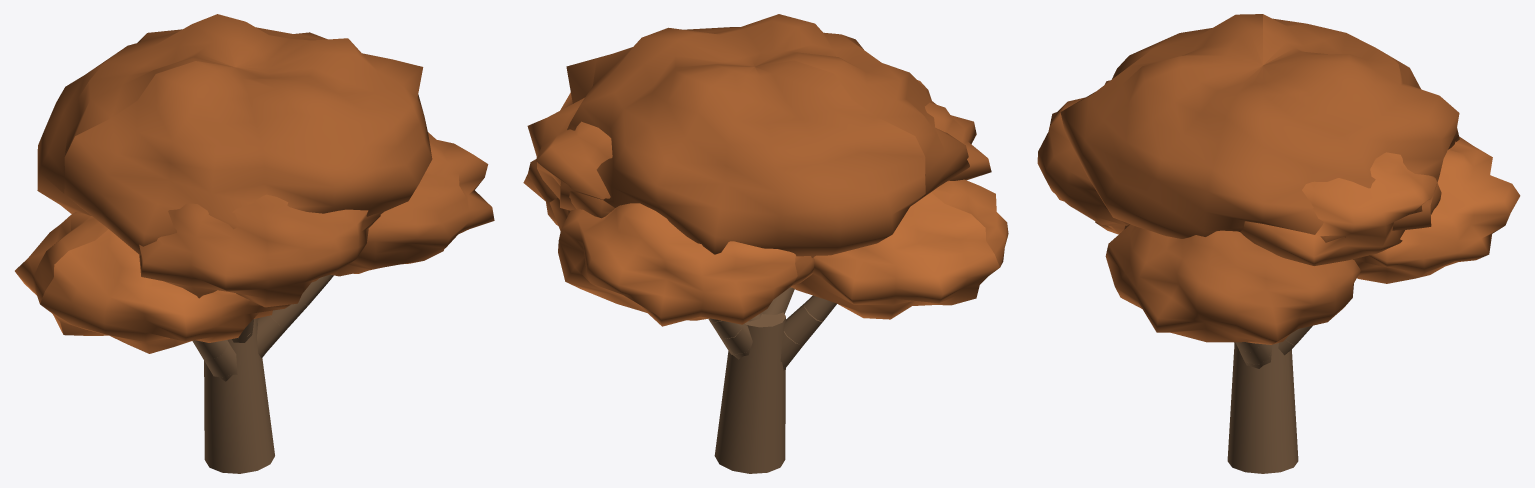
File: naspolya-osz.glb
The picture shows the model from 3 angles, left to right: view 1: azimuth 30°, elevation 25°; view 2: azimuth 150°, elevation 25°; view 3: azimuth 270°, elevation 25°; orthographic projection.
Parts seen in each view (by area): view 1: korona-tomeg, korona-1, korona-4, korona-2, torzs, ag-2-2, ag-1-2, ag-2-3; view 2: korona-tomeg, korona-3, korona-1, torzs, korona-5, korona-4, ag-1-3, korona-2, ag-3-2, ag-1-4; view 3: korona-tomeg, korona-2, korona-5, korona-3, torzs, korona-4.
Part boxes in pixels (x1=…): korona-tomeg: x1=37, y1=14, x2=432, y2=255; korona-1: x1=15, y1=212, x2=290, y2=353; korona-4: x1=139, y1=194, x2=380, y2=307; korona-2: x1=331, y1=132, x2=494, y2=276; torzs: x1=204, y1=318, x2=274, y2=473; ag-2-2: x1=257, y1=315, x2=286, y2=352; ag-1-2: x1=202, y1=340, x2=236, y2=377; ag-2-3: x1=270, y1=300, x2=307, y2=329; korona-tomeg: x1=560, y1=14, x2=969, y2=257; korona-3: x1=549, y1=198, x2=814, y2=326; korona-1: x1=790, y1=179, x2=1008, y2=319; torzs: x1=714, y1=312, x2=785, y2=473; korona-5: x1=527, y1=97, x2=614, y2=218; korona-4: x1=917, y1=80, x2=991, y2=181; ag-1-3: x1=784, y1=303, x2=822, y2=344; korona-2: x1=523, y1=159, x2=558, y2=225; ag-3-2: x1=718, y1=323, x2=752, y2=354; ag-1-4: x1=804, y1=295, x2=836, y2=321; korona-tomeg: x1=1060, y1=14, x2=1459, y2=242; korona-2: x1=1105, y1=224, x2=1360, y2=344; korona-5: x1=1240, y1=152, x2=1441, y2=265; korona-3: x1=1352, y1=136, x2=1520, y2=283; torzs: x1=1227, y1=342, x2=1298, y2=473; korona-4: x1=1037, y1=80, x2=1129, y2=233.
Size of the model in its own units: 4.89 by 4.32 by 4.6.
